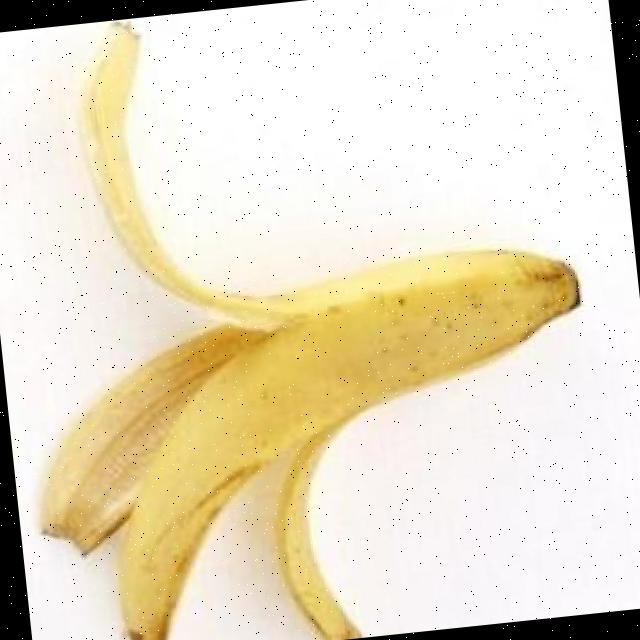banana-peel: (82, 234, 613, 640), (18, 316, 290, 560)
